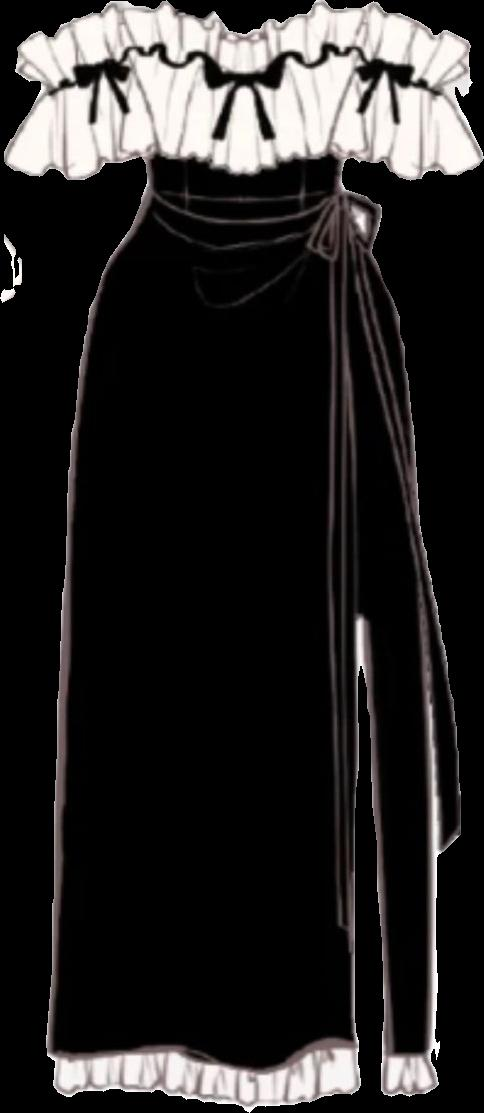Bodice: (4, 0, 483, 204)
Hemline: (51, 658, 442, 1106)
Neckline: (12, 0, 461, 62)
Skirt: (46, 192, 460, 1110)
Waistline: (139, 188, 351, 216)
